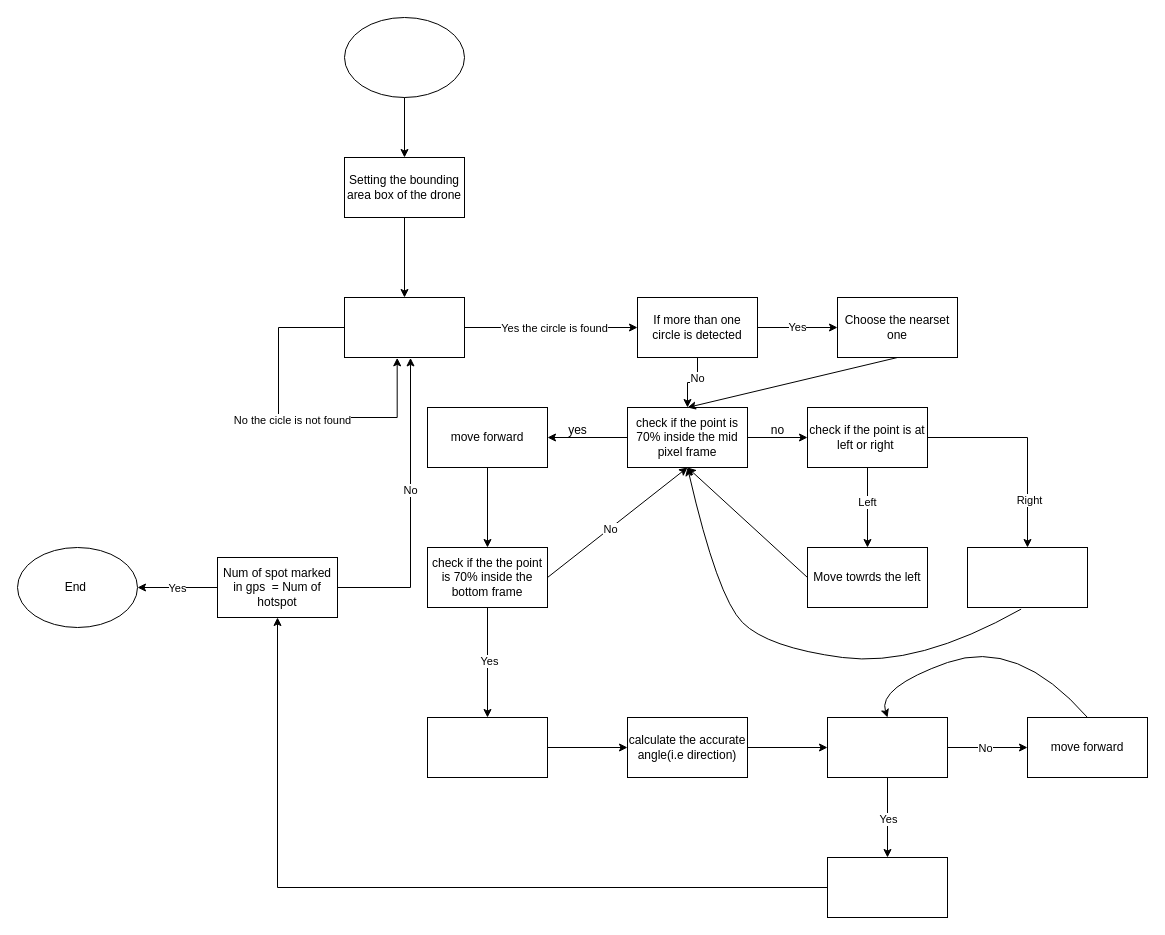
Some shapes in this 1165 by 935 pixel diagram are drawn without their labels. Each missing label, with the centre of its shape:
"check id the circle is 100% inside the mid pixel frame" goes at pixel 887 747.
"Mark the point in gps to avoid looping" goes at pixel 887 887.
"Move toward right" goes at pixel 1027 577.
"Rotate the drone 15 degree and check for circle" goes at pixel 404 327.
"Shift to 90 degree cam" goes at pixel 487 747.
"Start" goes at pixel 404 57.
